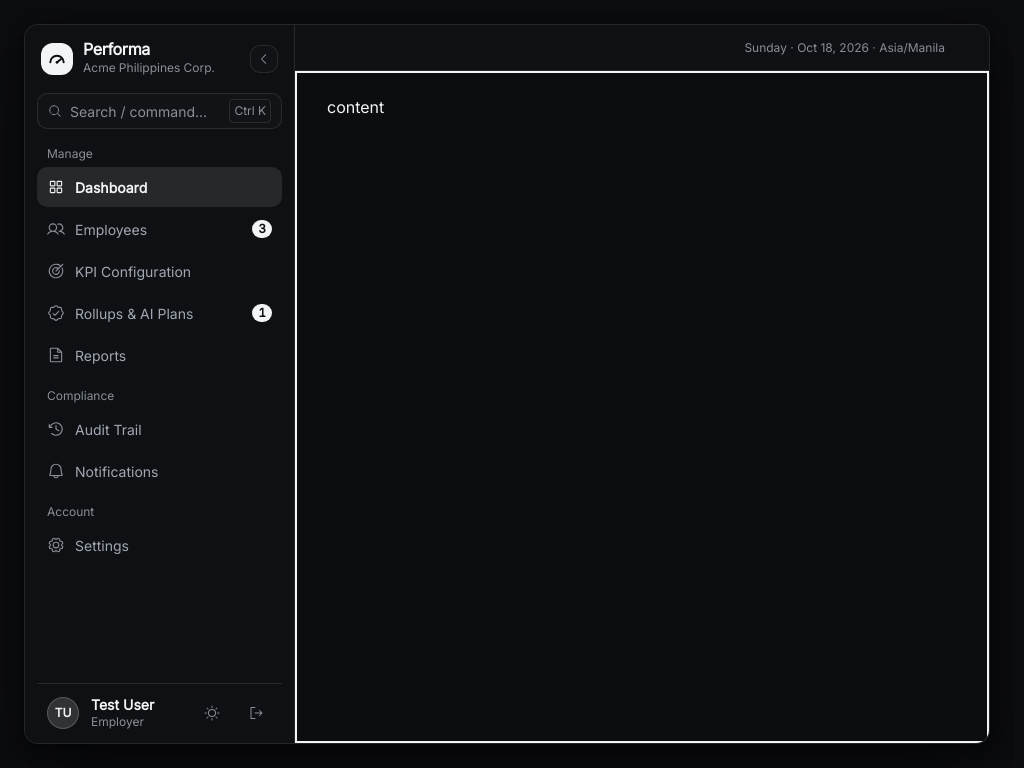
Test: AppShell › confirms before signing out from the sidebar
The width and height of the screenshot is (1024, 768).
Click the button named "Sign out".
click(256, 713)  # box [240, 697, 272, 729]
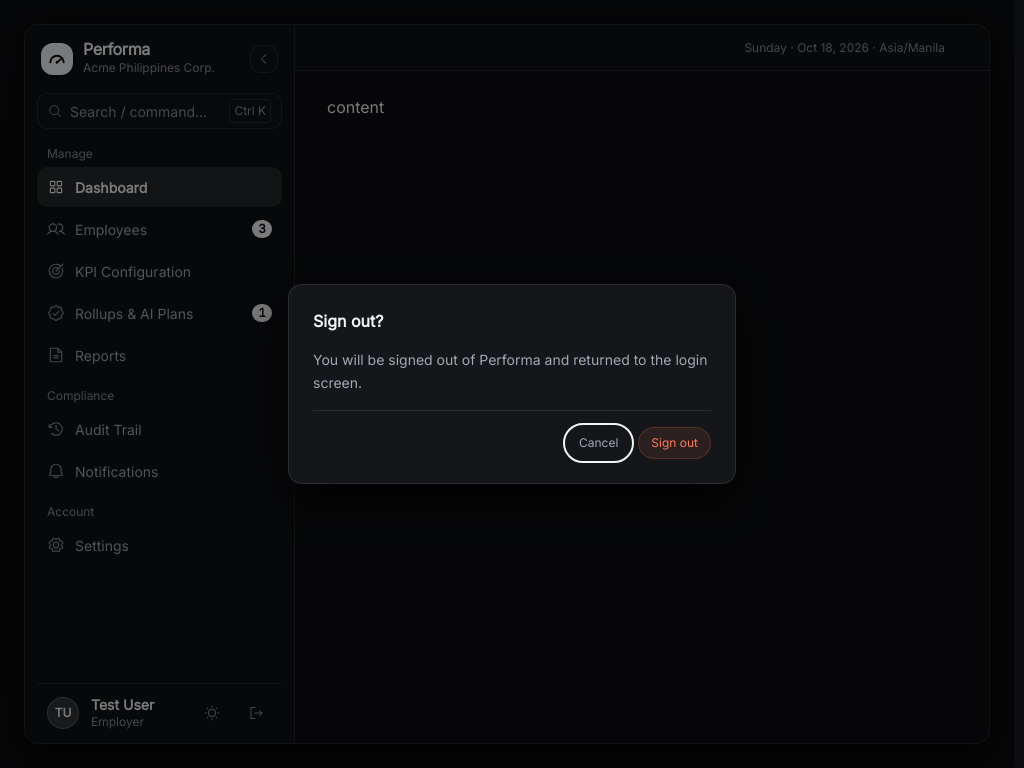
Check: the text "You will be signed out of Performa and returned to the login screen." is shown, box [313, 349, 711, 394]
